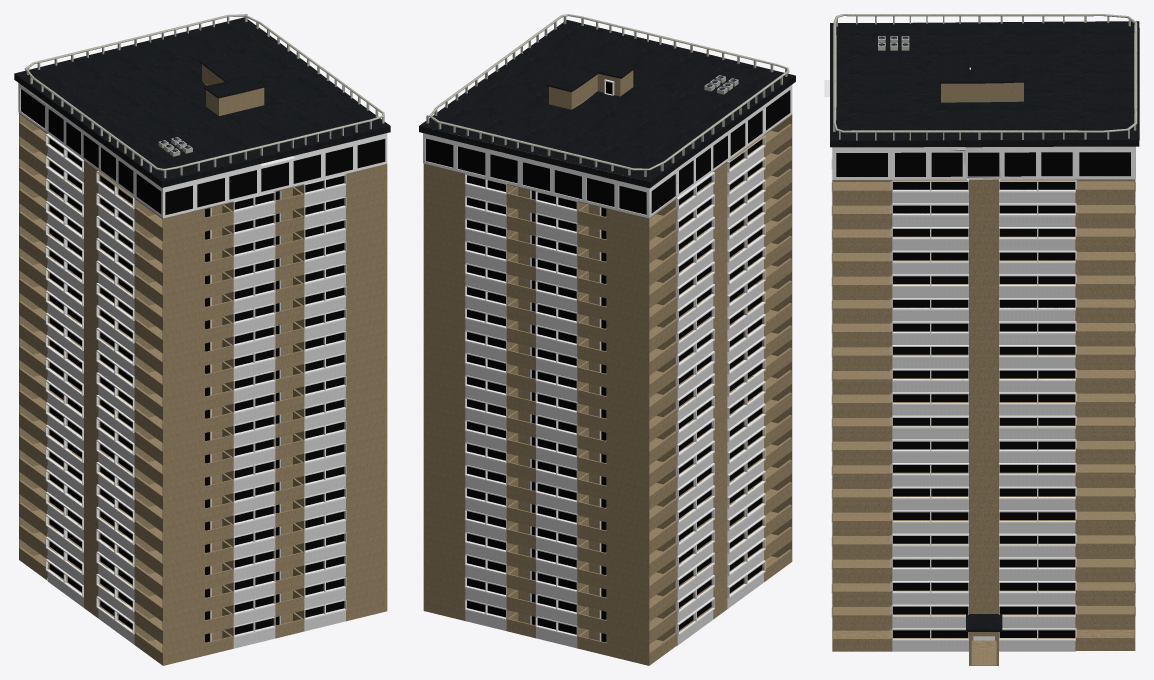
The picture shows the model from 3 angles, left to right: view 1: azimuth 30°, elevation 25°; view 2: azimuth 150°, elevation 25°; view 3: azimuth 270°, elevation 25°; orthographic projection. The views are drawn at different scales.
Parts seen in each view (by area): view 1: Block of Flats 2; view 2: Block of Flats 2; view 3: Block of Flats 2.
Part boxes in pixels (x1,y1,x2,y2): Block of Flats 2: (14,14,390,665); Block of Flats 2: (419,14,795,665); Block of Flats 2: (824,14,1139,665).
Bounding box in the file's own units: 38.31 × 71.93 × 38.46.
Materials: 7 (5 with a texture image).
